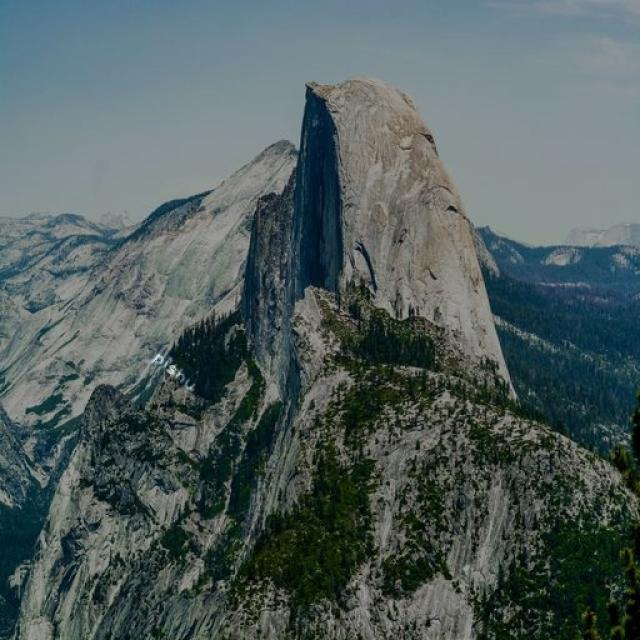watermark: (146, 345, 203, 395)
